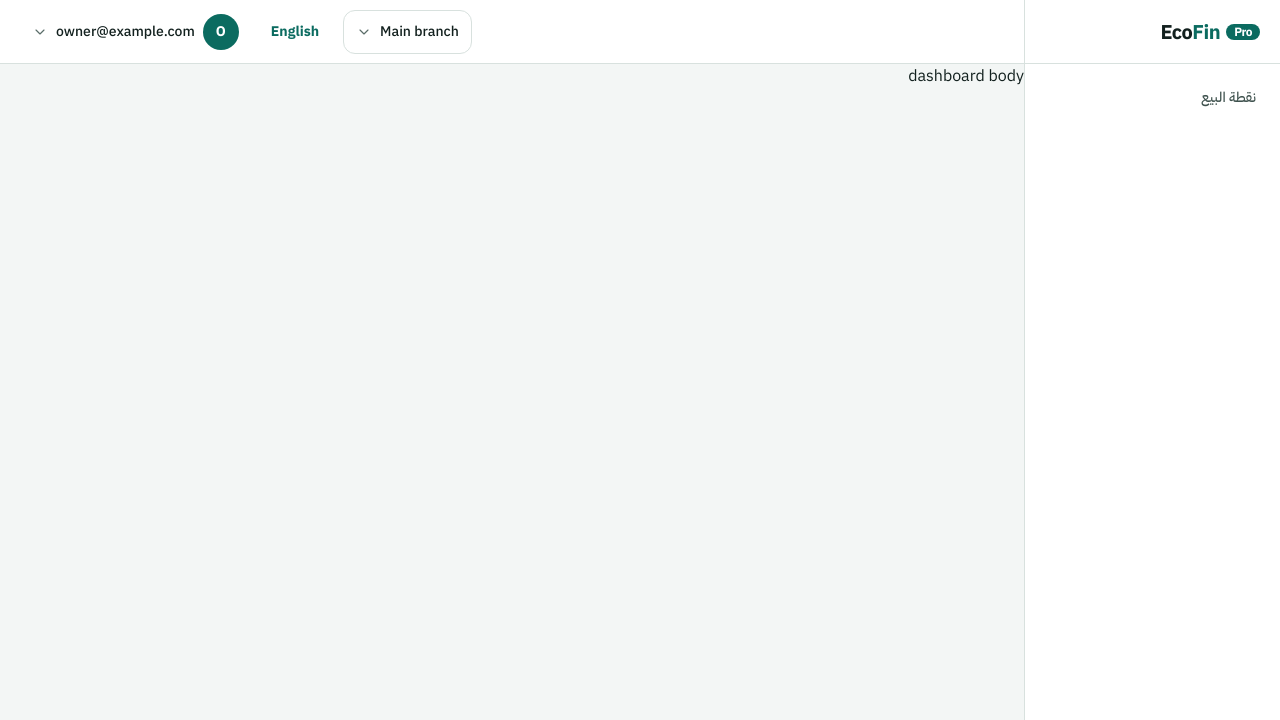
it: POS device (O03) › a computer that is no device shows none, and the account menu leads to pairing
expect the text "dashboard body" is shown: met, box [908, 64, 1024, 88]
Click the button with aria-label "قائمة الحساب": click(135, 32) [24, 10, 247, 54]
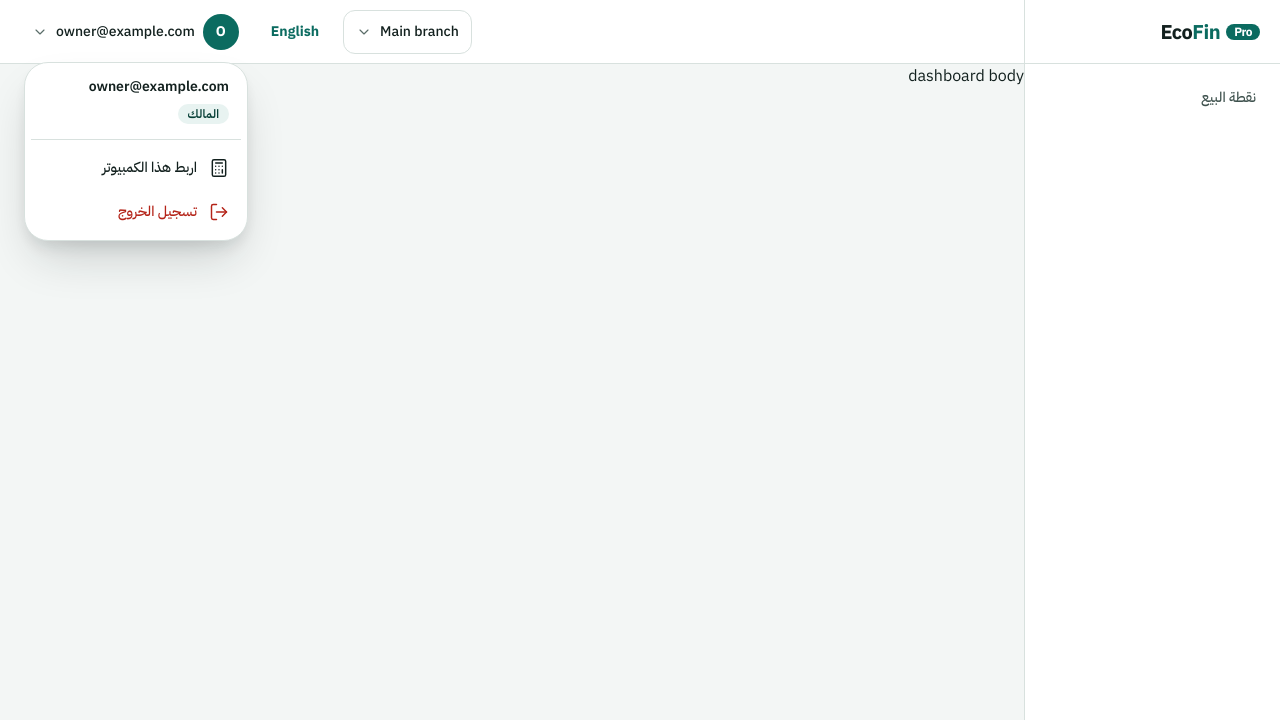
Click the menu item "اربط هذا الكمبيوتر": click(166, 168) [102, 157, 229, 178]
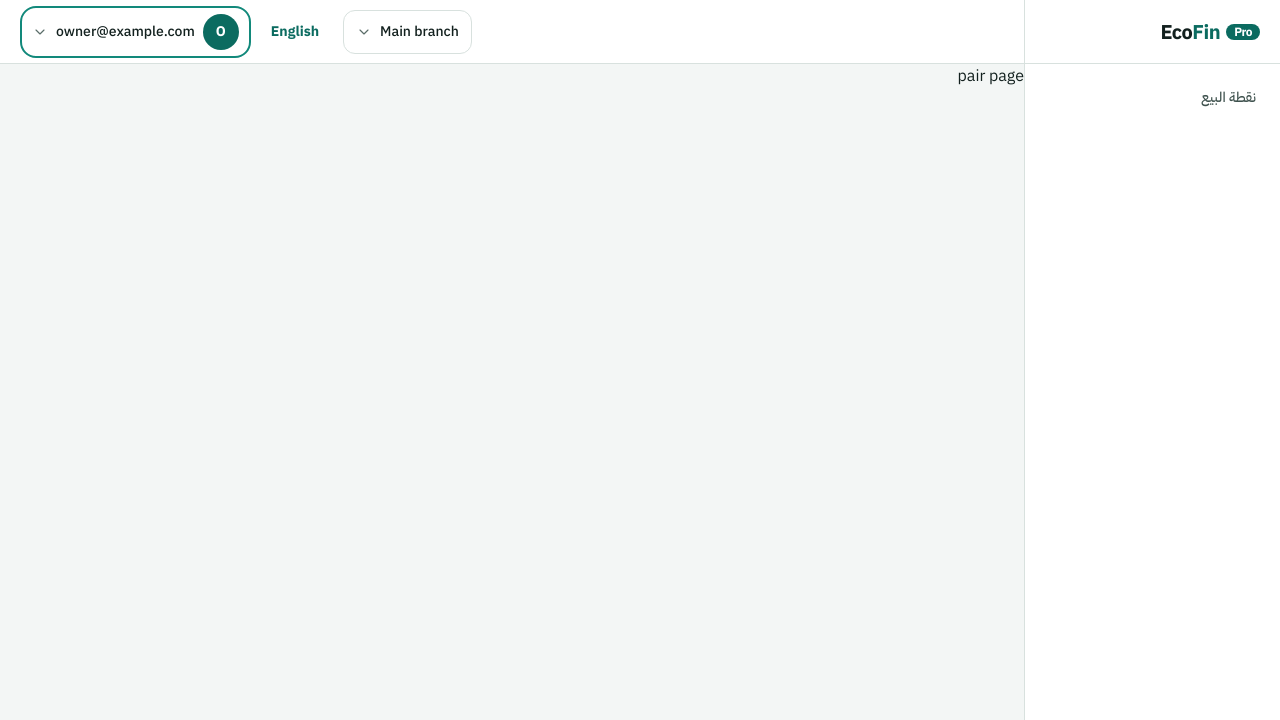
expect the text "pair page" is shown: met, box [958, 64, 1024, 88]
